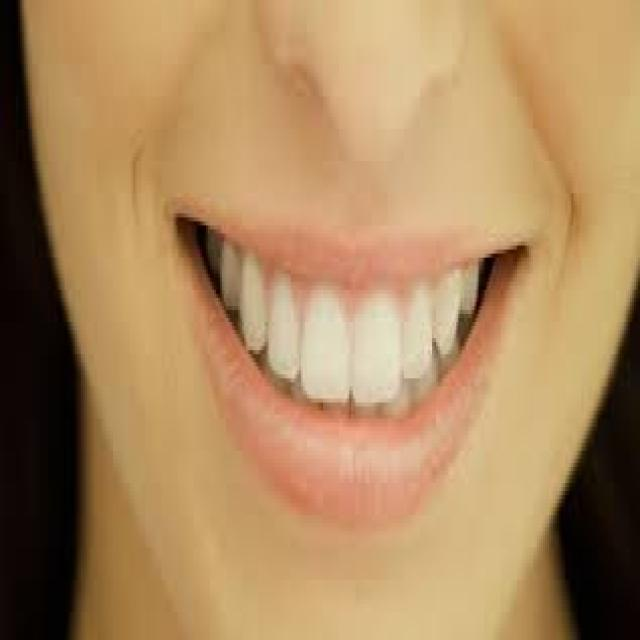tooth: (351, 286, 410, 406), (299, 290, 351, 402), (238, 242, 269, 354), (400, 282, 430, 378), (430, 278, 464, 350), (272, 274, 294, 378), (218, 237, 240, 302), (460, 258, 482, 306), (210, 230, 220, 266)
